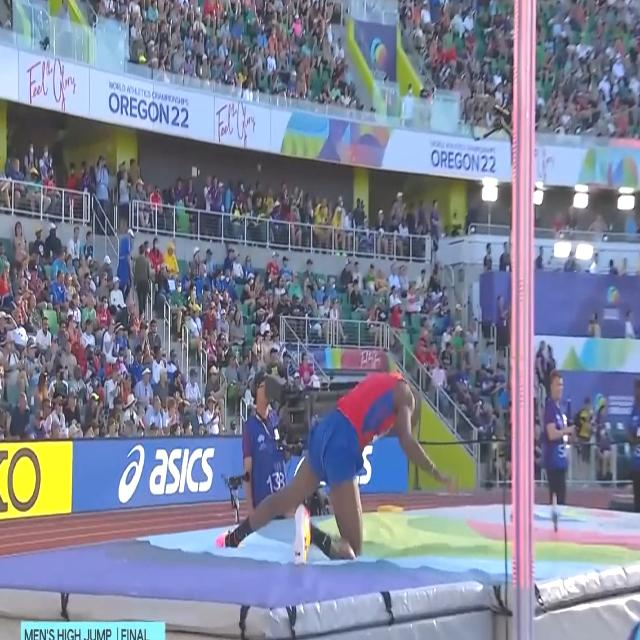land: (217, 368, 456, 568)
